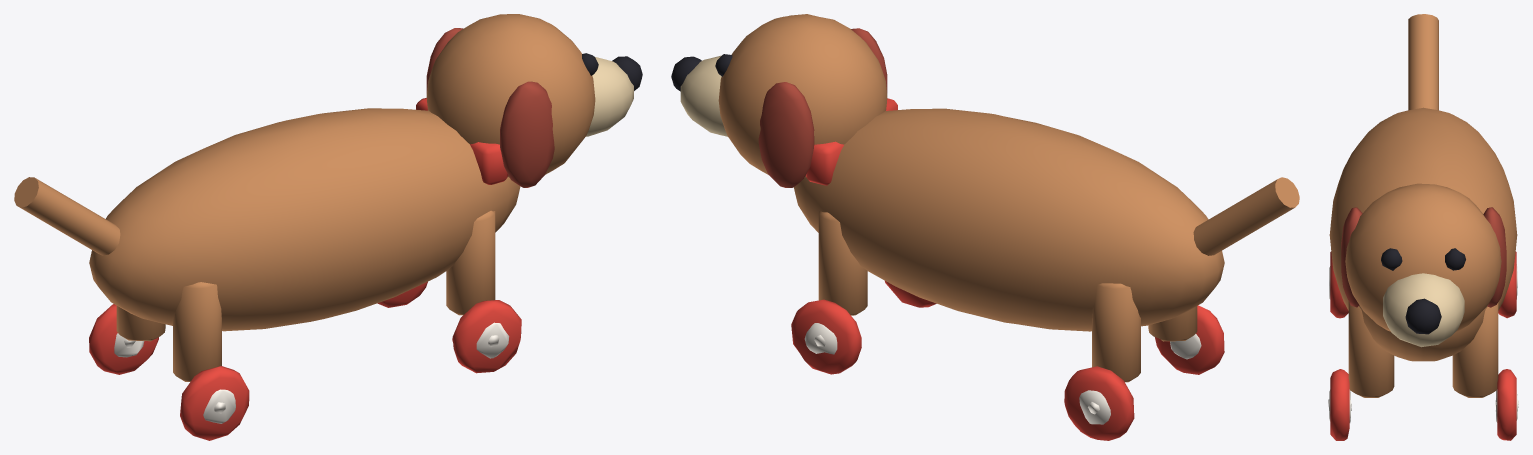
Rendered from dog.glb.
3 views of the same model, side by side, from view 1: azimuth 30°, elevation 25°; view 2: azimuth 150°, elevation 25°; view 3: azimuth 270°, elevation 25° (orthographic). The views are drawn at different scales.
Parts seen in each view (by area): view 1: dog; view 2: dog; view 3: dog.
Boxes of the visible parts, x1,y1,x2,y2 form: dog: (14,14,642,440); dog: (671,14,1299,440); dog: (1328,14,1518,440).
Size of the model in its own units: 1.28 by 0.5899 by 0.3658.
1 material, 1 textured.
